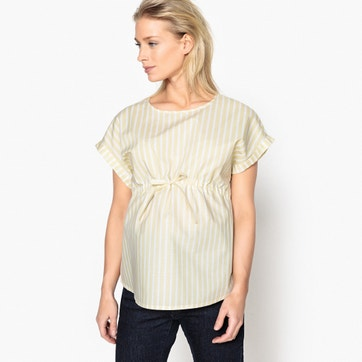C_short blouse: (96, 93, 274, 312)
